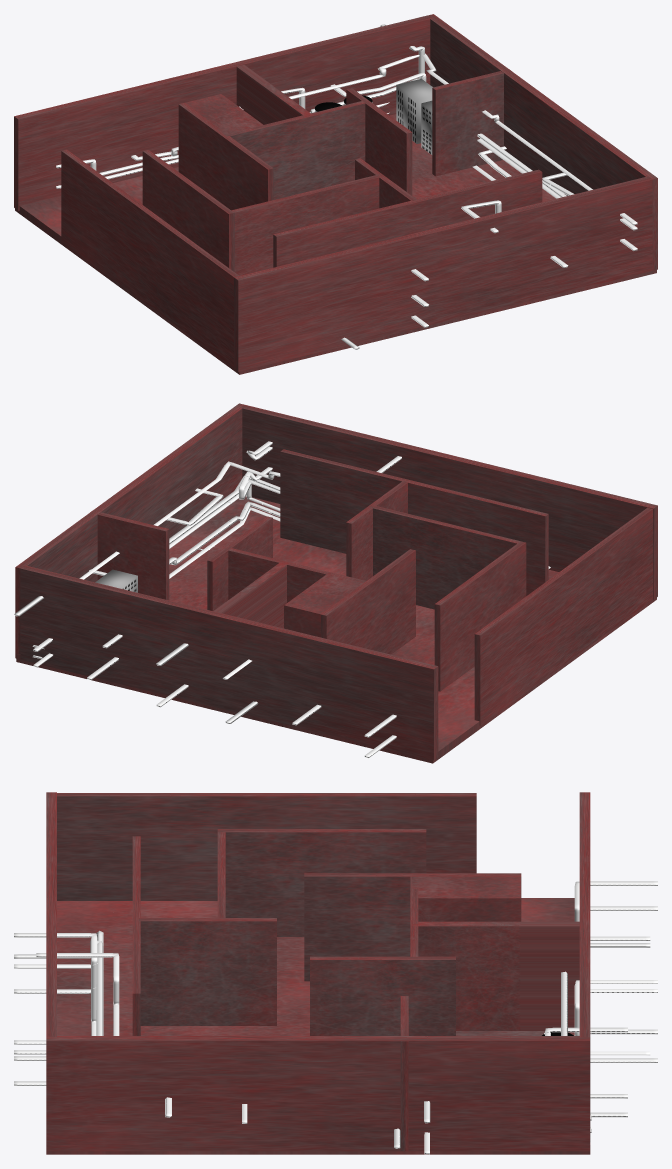
The model's file is furnace_place.fbx.
The picture shows the model from 3 angles, top to bottom: view 1: azimuth 30°, elevation 25°; view 2: azimuth 150°, elevation 25°; view 3: azimuth 270°, elevation 25°; orthographic projection. The views are drawn at different scales.
Parts seen in each view (by area): view 1: Cube.01, Plane, Cube, pipe.003, pipe.005, pipe.008; view 2: Cube.01, Plane, pipe.003, pipe.004, pipe.005, pipe.001, Cube, pipe.007, pipe.012; view 3: Cube.01, Plane, pipe.003, pipe.005, pipe.001, pipe.011, pipe.009, pipe.008, pipe.012.
Boxes of the visible parts, left/top/right/bottom form: Cube.01: left=14, top=14, right=657, bottom=371; Plane: left=15, top=114, right=656, bottom=374; Cube: left=314, top=78, right=432, bottom=154; pipe.003: left=239, top=53, right=592, bottom=233; pipe.005: left=330, top=72, right=566, bottom=306; pipe.008: left=131, top=24, right=424, bottom=160; Cube.01: left=15, top=403, right=657, bottom=760; Plane: left=16, top=496, right=656, bottom=763; pipe.003: left=79, top=456, right=401, bottom=679; pipe.004: left=169, top=501, right=280, bottom=565; pipe.005: left=102, top=475, right=280, bottom=648; pipe.001: left=33, top=507, right=280, bottom=667; Cube: left=95, top=569, right=137, bottom=592; pipe.007: left=33, top=479, right=280, bottom=651; pipe.012: left=238, top=467, right=550, bottom=568; Cube.01: left=46, top=792, right=590, bottom=1151; Plane: left=46, top=898, right=590, bottom=1154; pipe.003: left=36, top=943, right=650, bottom=1035; pipe.005: left=14, top=940, right=627, bottom=1035; pipe.001: left=14, top=933, right=627, bottom=1117; pipe.011: left=574, top=980, right=657, bottom=1062; pipe.009: left=574, top=881, right=657, bottom=992; pipe.008: left=590, top=936, right=650, bottom=1055; pipe.012: left=14, top=930, right=103, bottom=1085.
Size of what is drawn, in the model's own units: 3229 by 644 by 3278.
5 materials, 3 textured.
